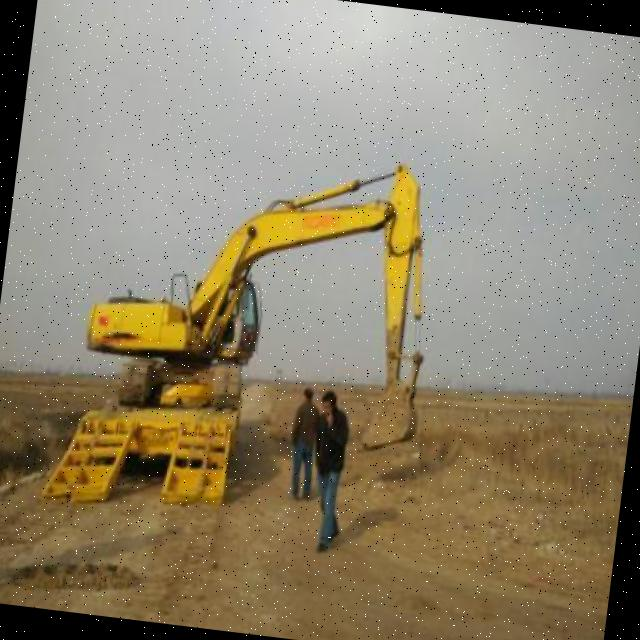Excavator: (73, 122, 450, 446)
